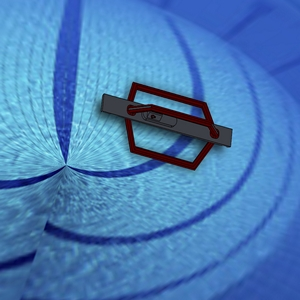submarine: (71, 57, 256, 188)
